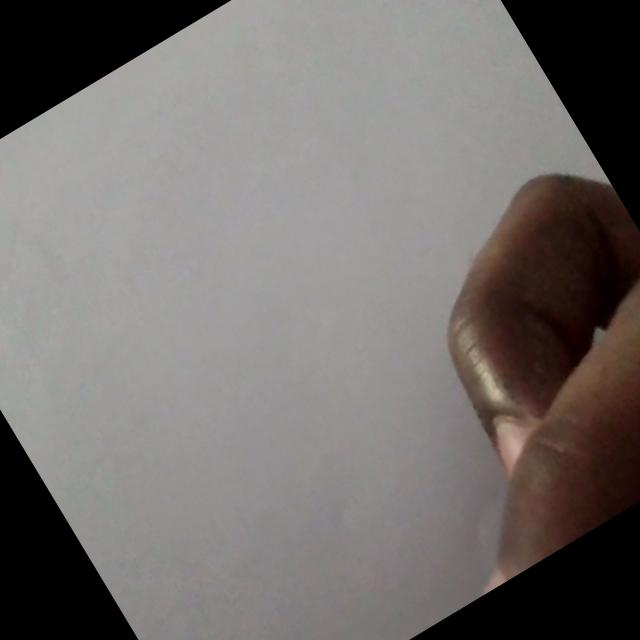battery: (449, 179, 640, 591), (574, 131, 585, 148), (543, 172, 571, 178)
